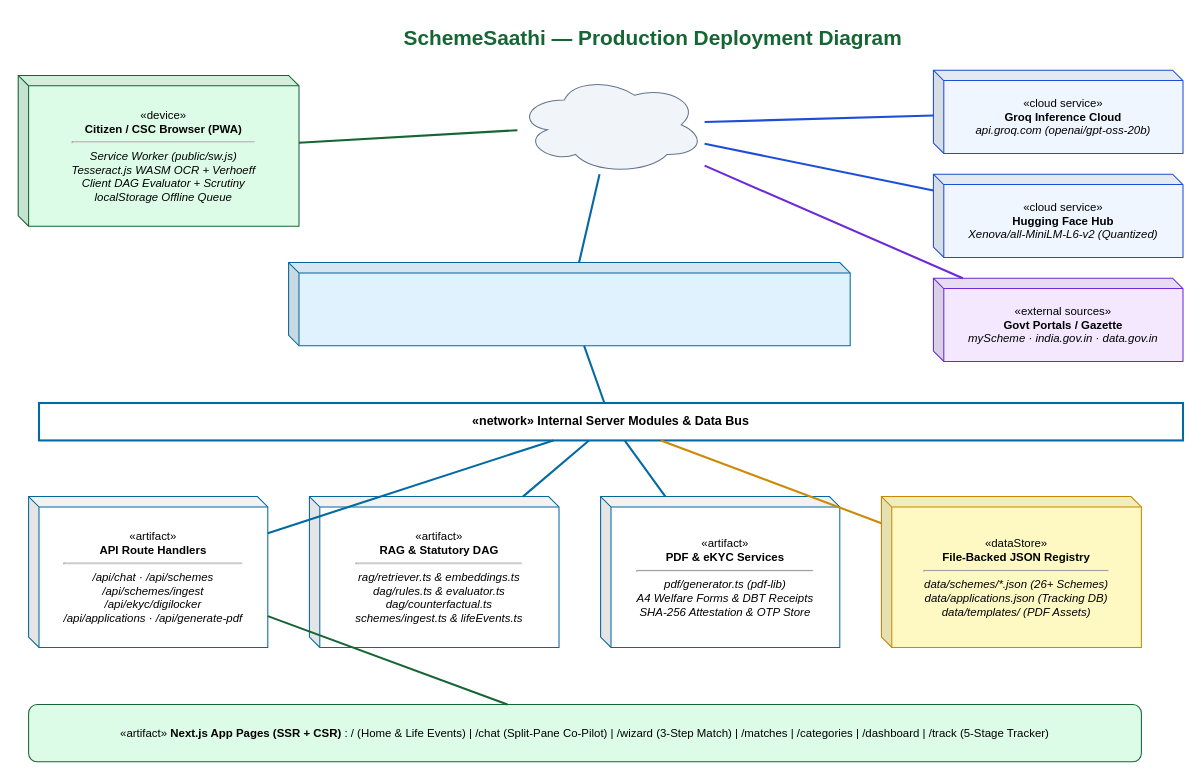
This 1202x780 diagram has some shape labels left out. Each missing label, with the centre of its shape:
"HTTPS / Internet" belongs at pixel 610 124.
"«executionEnvironment» Next.js 16.3.5 App Router — Node.js Runtime" belongs at pixel 569 304.
